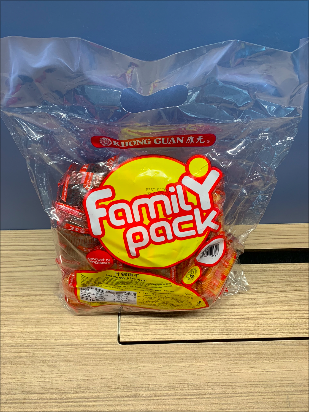Cookies_600-699g: (57, 143, 239, 303)
